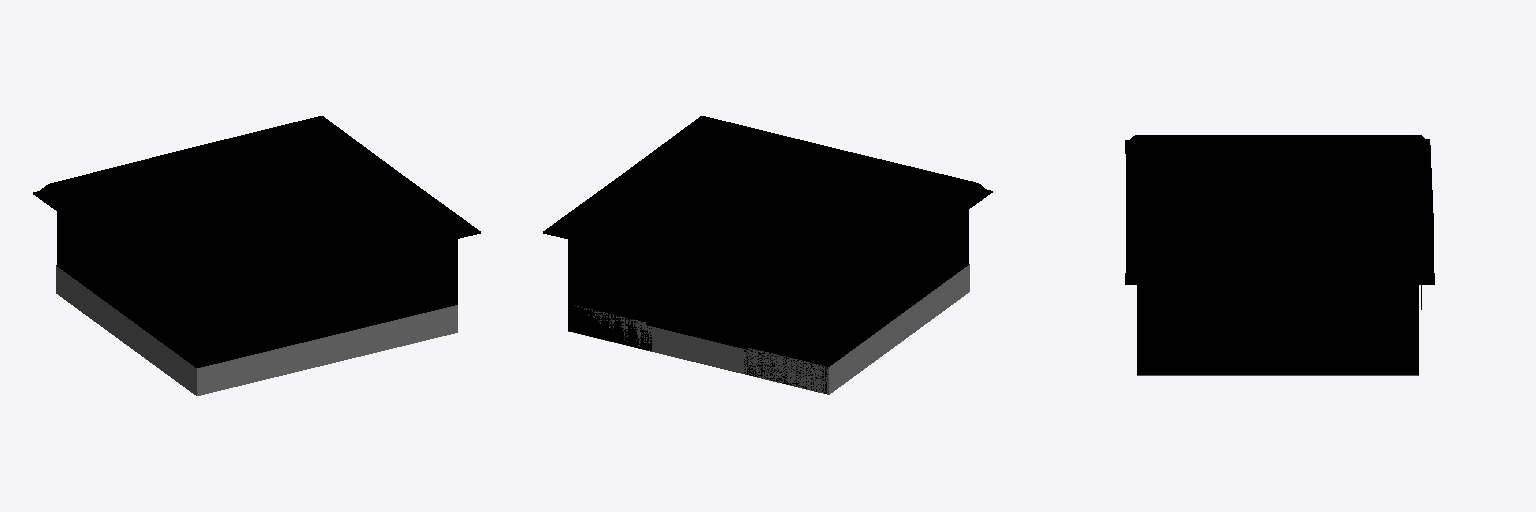
Rendered from Map.obj.
3 renders of one model, left to right at view 1: azimuth 30°, elevation 25°; view 2: azimuth 150°, elevation 25°; view 3: azimuth 270°, elevation 25°, orthographic.
Parts seen in each view (by area): view 1: Map:Map, Map:Ground, Map:Door_4, Map:Door_3, Map:Door_1, Map:Door_2; view 2: Map:Map, Map:Ground, Map:Door_2, Map:Door_1, Map:Door_4, Map:Door_3; view 3: Map:Map, Map:Ground.
Boxes of the visible parts, <box> form: Map:Map: <box>33,116,480,367</box>; Map:Ground: <box>56,205,457,395</box>; Map:Door_4: <box>326,259,374,334</box>; Map:Door_3: <box>278,271,325,345</box>; Map:Door_1: <box>186,161,232,232</box>; Map:Door_2: <box>143,172,185,242</box>; Map:Map: <box>543,116,992,393</box>; Map:Ground: <box>568,204,969,394</box>; Map:Door_2: <box>697,271,747,349</box>; Map:Door_1: <box>646,258,696,336</box>; Map:Door_4: <box>786,162,835,233</box>; Map:Door_3: <box>836,175,886,243</box>; Map:Map: <box>1125,135,1434,374</box>; Map:Ground: <box>1137,225,1418,375</box>.
Bounding box in the file's own units: 166 × 60.19 × 150.